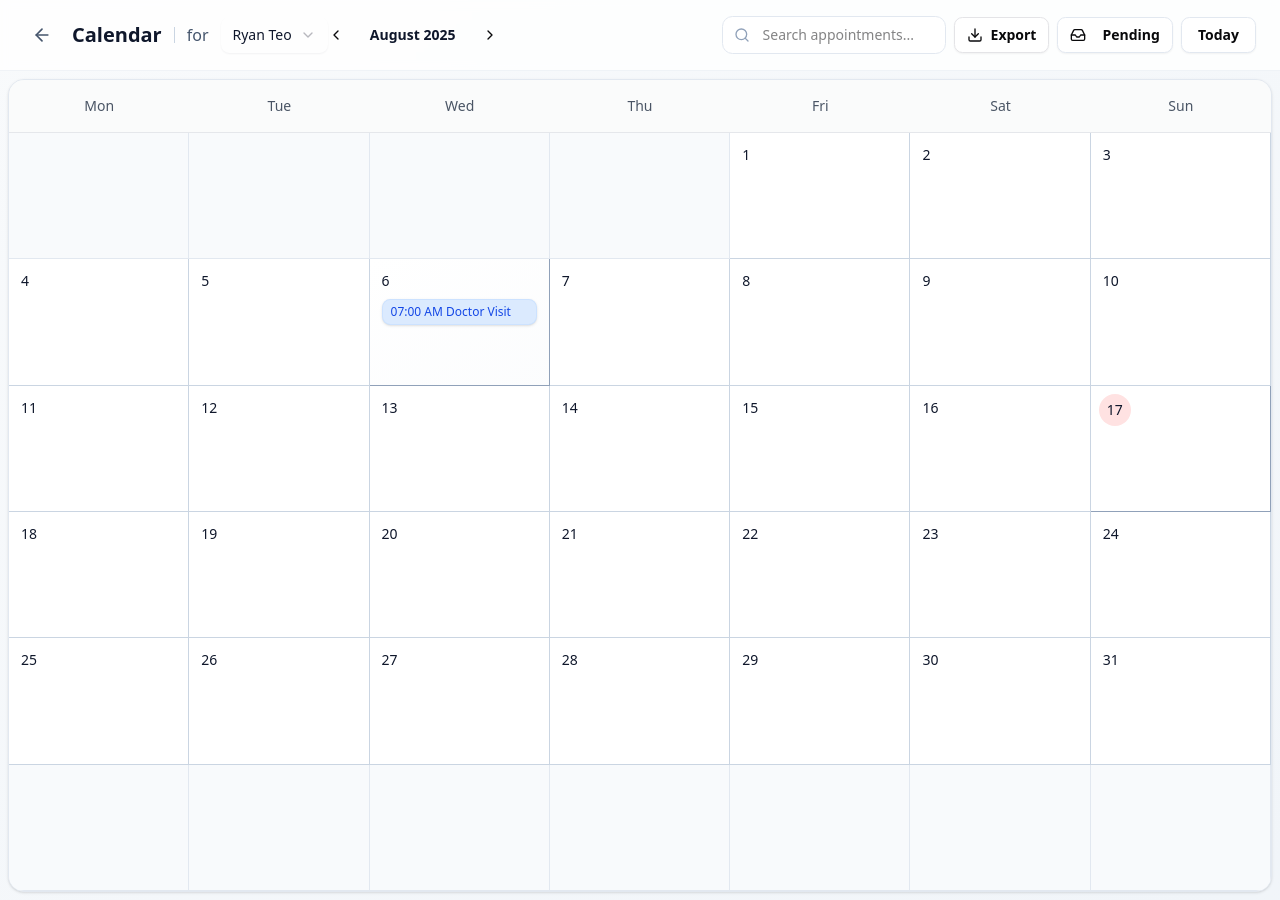
Test: Calendarview should show appointment › should render elder's name when elder is chosen
Expected: the text "Ryan Teo" is shown, top-left (232, 25), bottom-right (292, 45)
Click the element with test id "calendar-cell-6": [460, 322] box top-left (370, 259), bottom-right (550, 386)
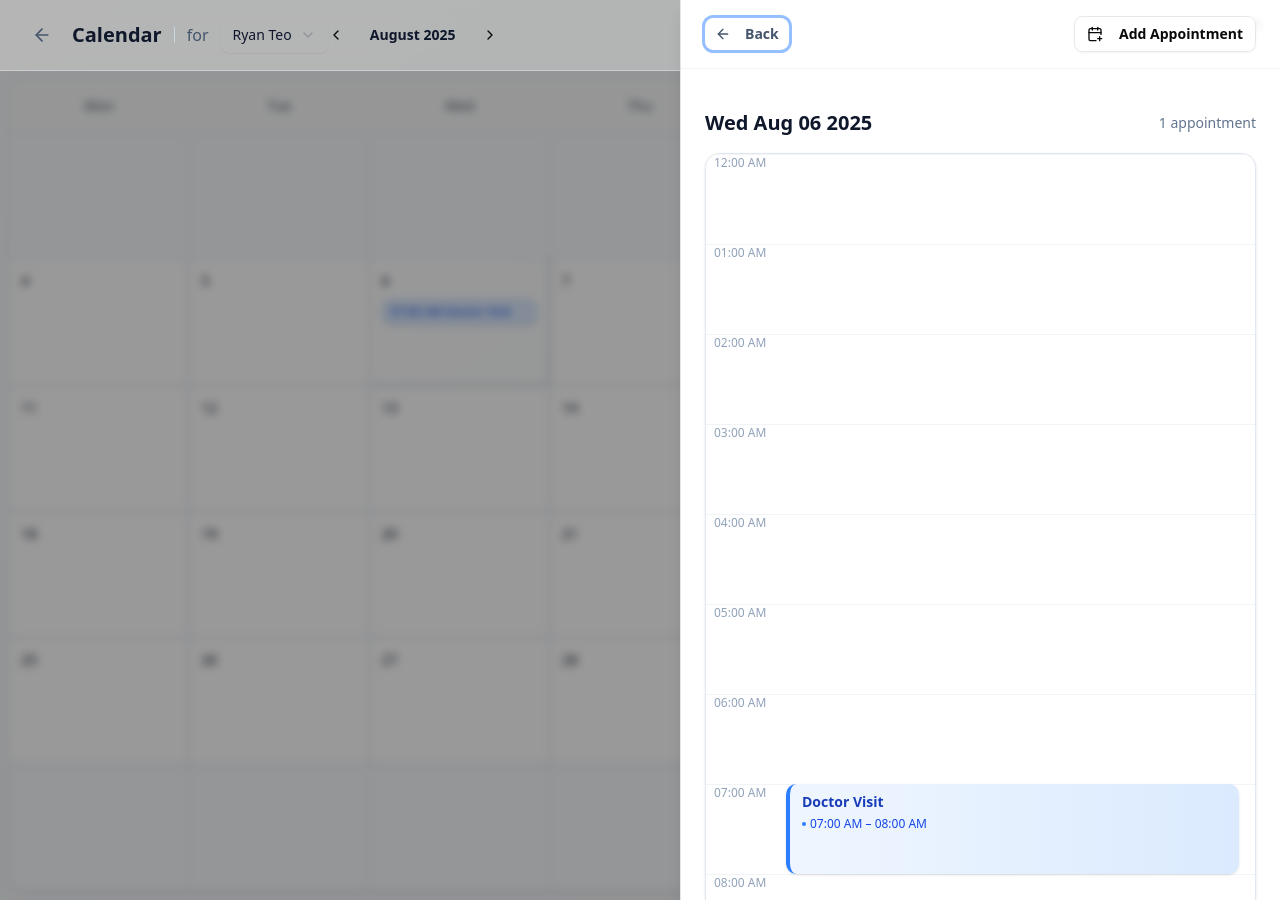
Expected: the text "Doctor Visit" is shown, top-left (802, 792), bottom-right (884, 811)
